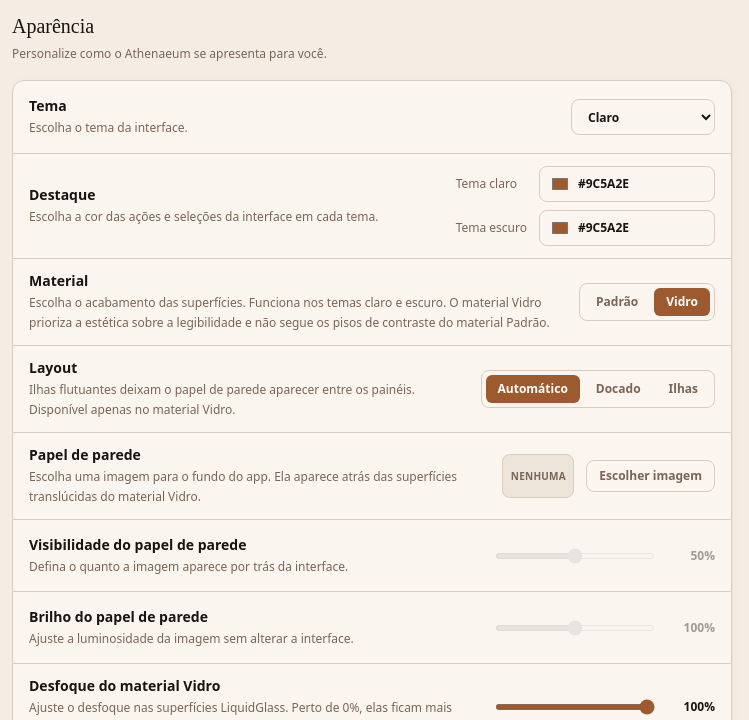
Scenario: controle de papel de parede em Aparencia › importa a imagem escolhida e so entao grava a chave
Click the button "Escolher imagem". click: coordinates (651, 476)
box: [586,460,715,492]
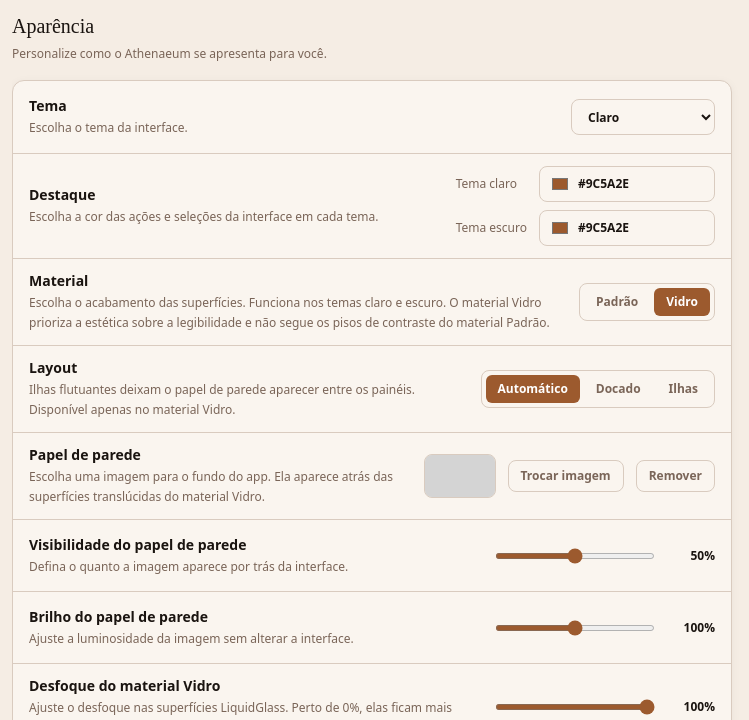
expect the button "Trocar imagem" is shown: met, box [508,460,624,492]
expect the slider named "Visibilidade do papel de parede" is enabled: met, box [495,552,655,558]
expect the slider named "Brilho do papel de parede" is enabled: met, box [495,624,655,630]
